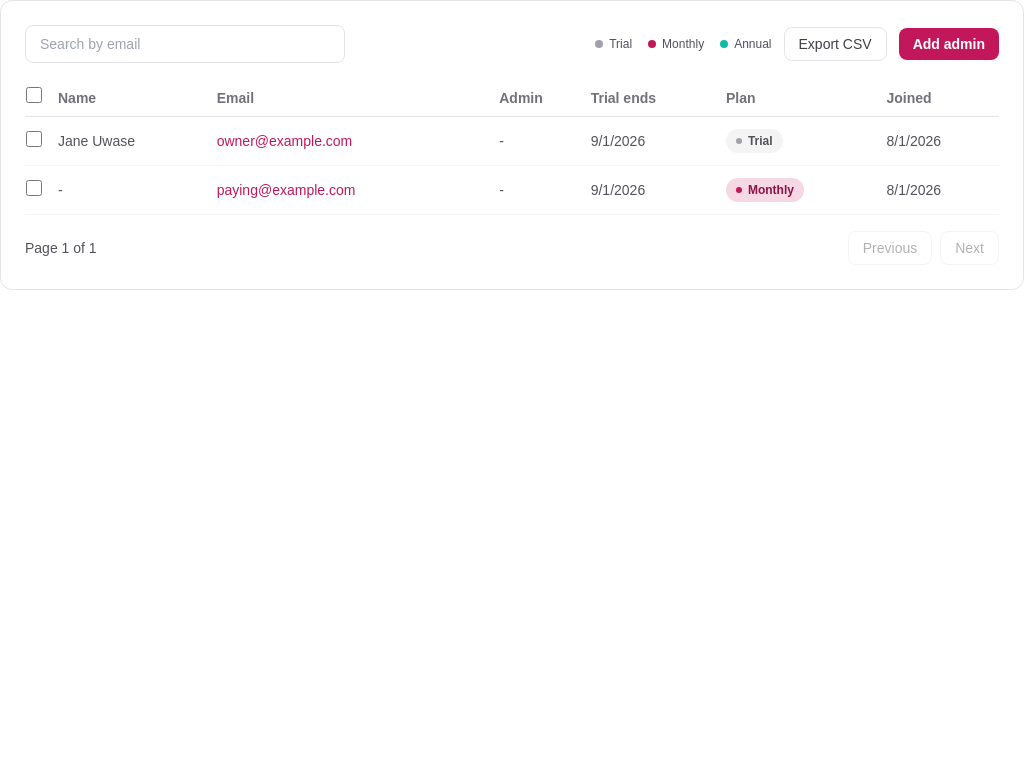
Test: AdminUsers › bulk-extends the trial for selected users
The image size is (1024, 768).
Expected: the text "Jane Uwase" is shown, [57, 116, 216, 166]
Click the checkbox named "Select all users". click: click(34, 95)
box: [26, 87, 42, 103]
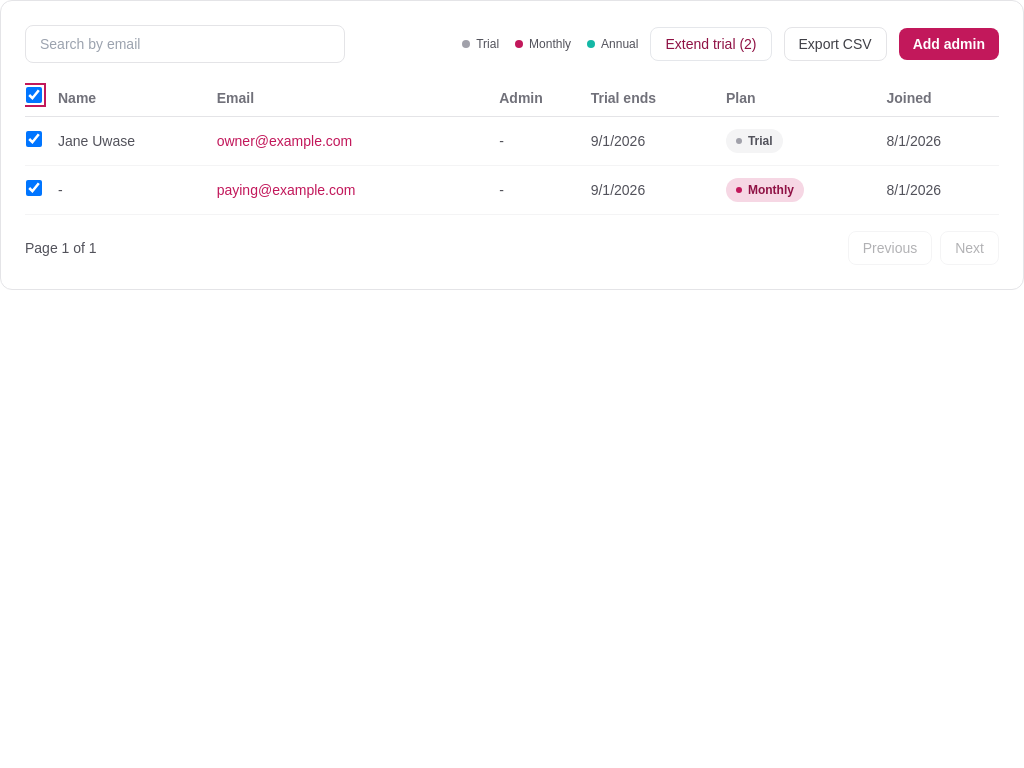
Click the button "Extend trial (2)". click: click(711, 44)
box: [650, 27, 772, 61]
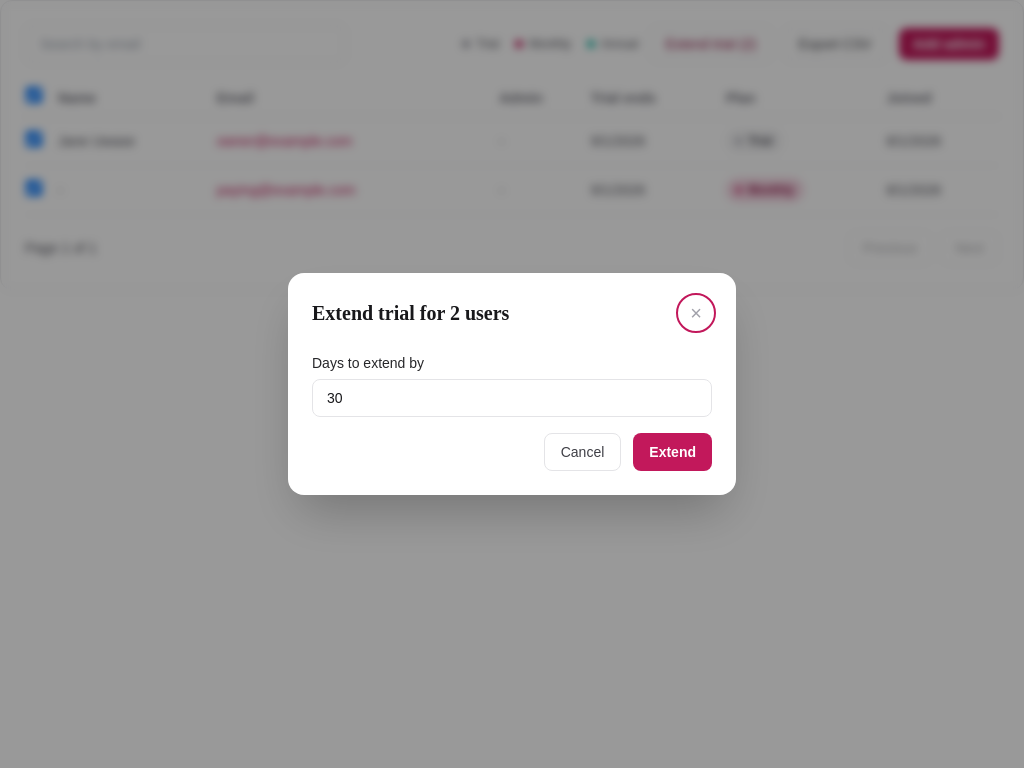
Type "14" into the number field labelled "Days to extend by". click: (512, 398)
box: [312, 379, 712, 417]
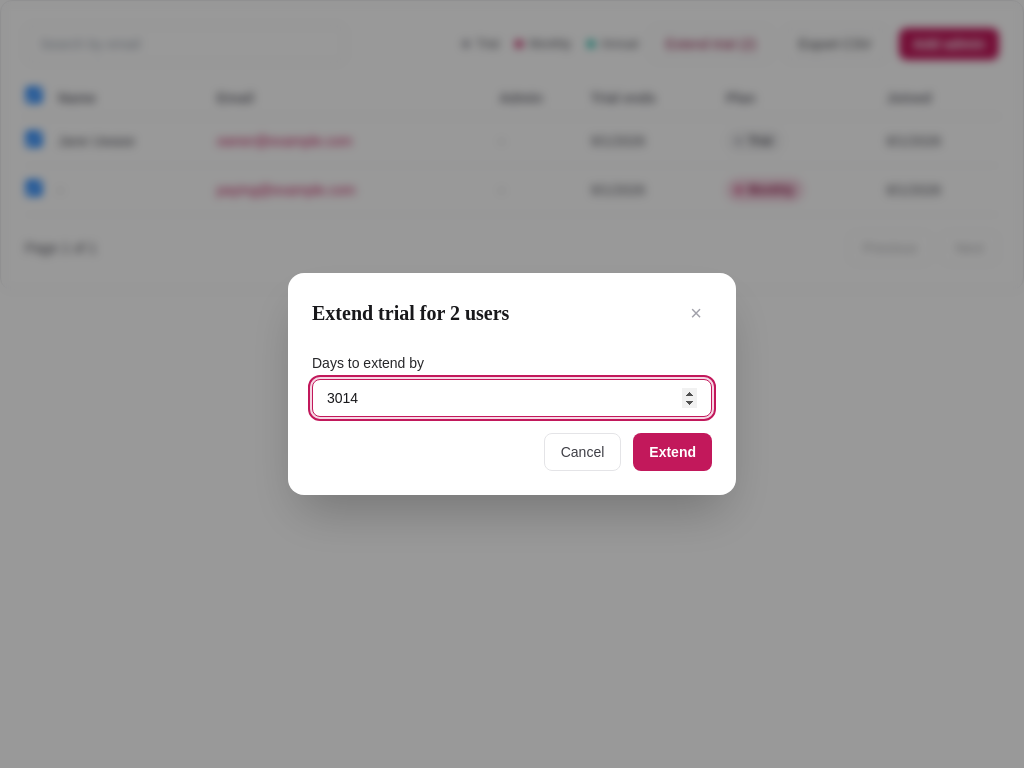
Click the button "Extend". click: click(673, 452)
box: [633, 433, 712, 471]
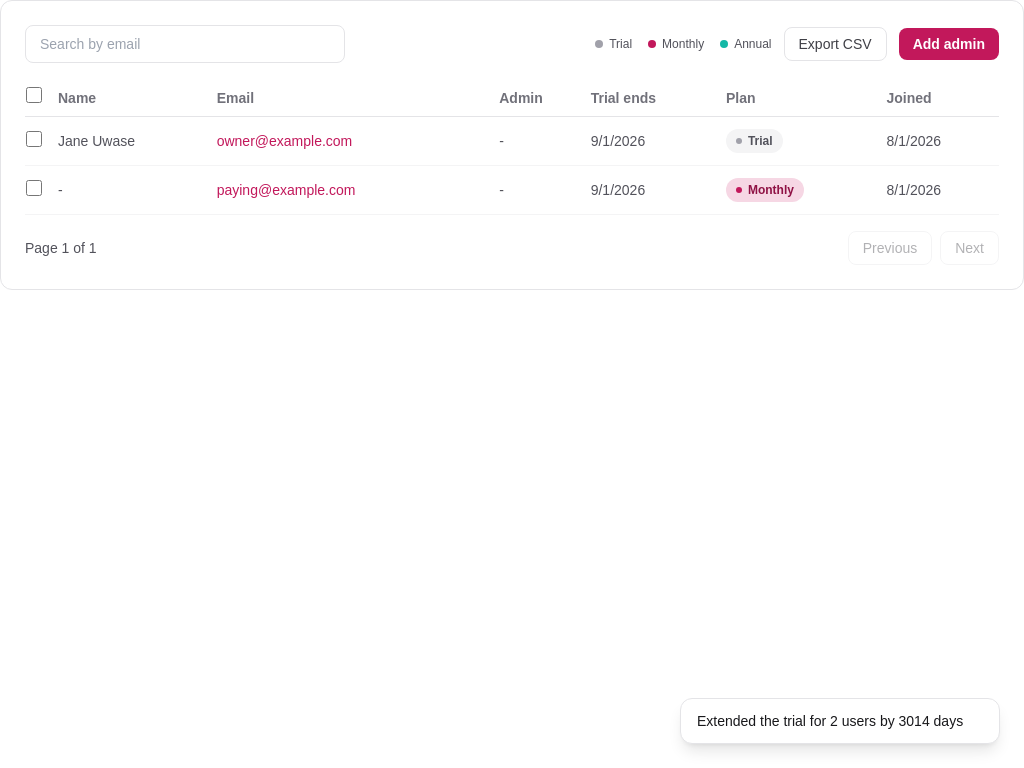
Now the text "Extended the trial for 2 users by 3014 days" is shown, box [697, 711, 983, 731]
